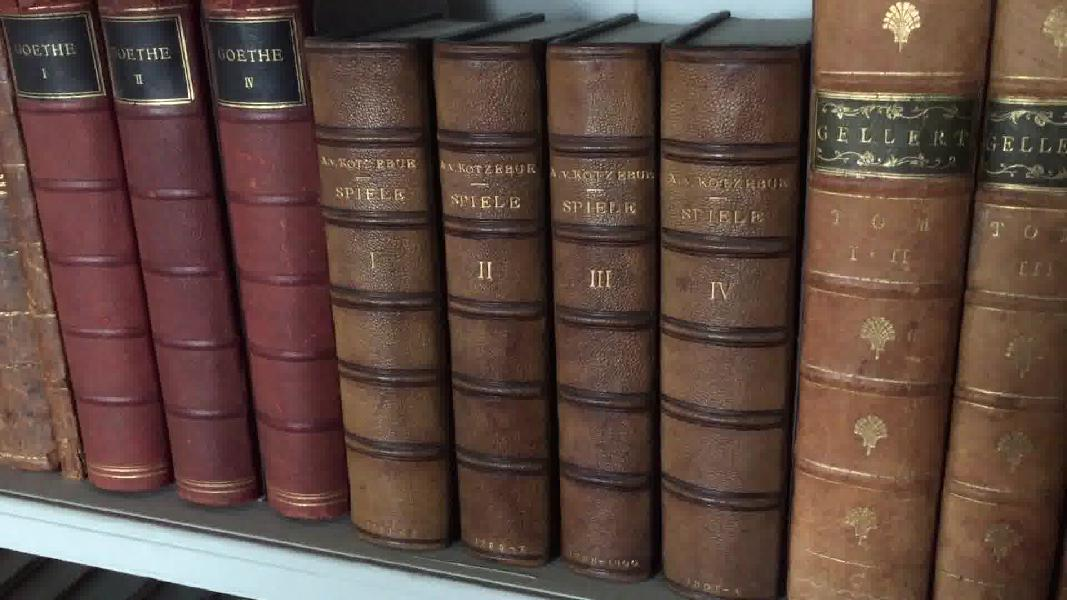Aa6-11_13: (4, 4, 351, 531)
Aa6-14_17: (301, 34, 797, 600)
